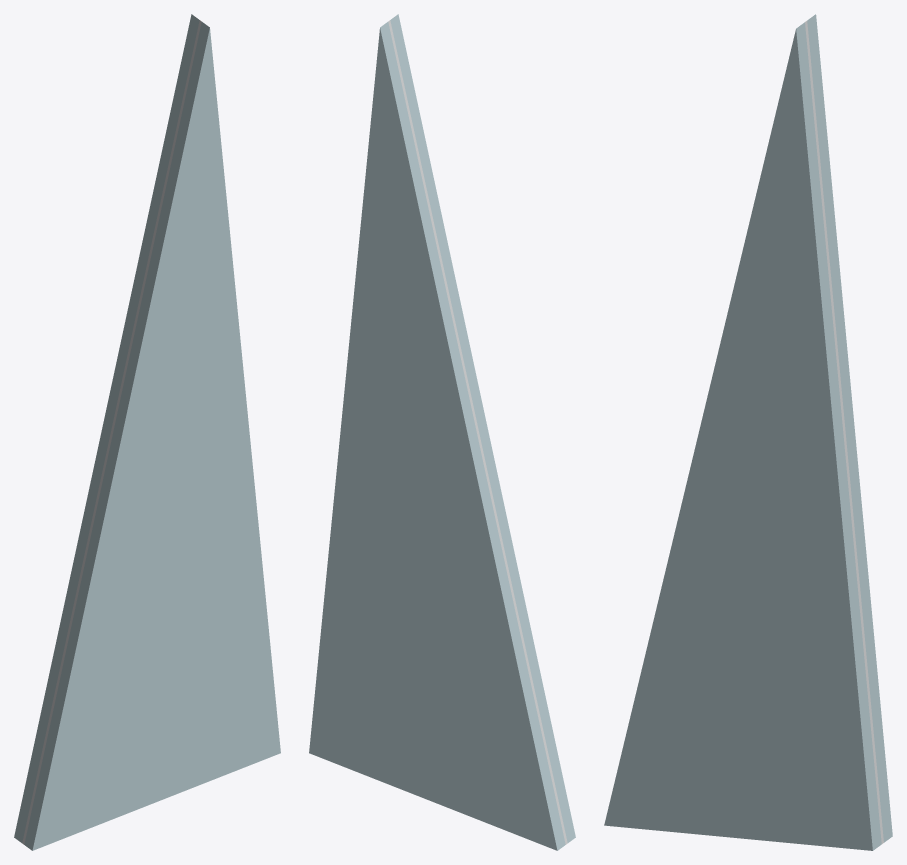
Rendered from SM_Int_Shard_D.fbx.
3 renders of one model, left to right at view 1: azimuth 30°, elevation 25°; view 2: azimuth 150°, elevation 25°; view 3: azimuth 330°, elevation 25°, orthographic. The views are drawn at different scales.
Visible parts, largest first — view 1: SM_Int_Shard_D; view 2: SM_Int_Shard_D; view 3: SM_Int_Shard_D.
Part boxes in pixels (x1=…): SM_Int_Shard_D: x1=14, y1=14, x2=280, y2=850; SM_Int_Shard_D: x1=309, y1=14, x2=575, y2=850; SM_Int_Shard_D: x1=604, y1=14, x2=892, y2=850.
Bounding box in the file's own units: 0.009 × 0.07 × 0.21.
